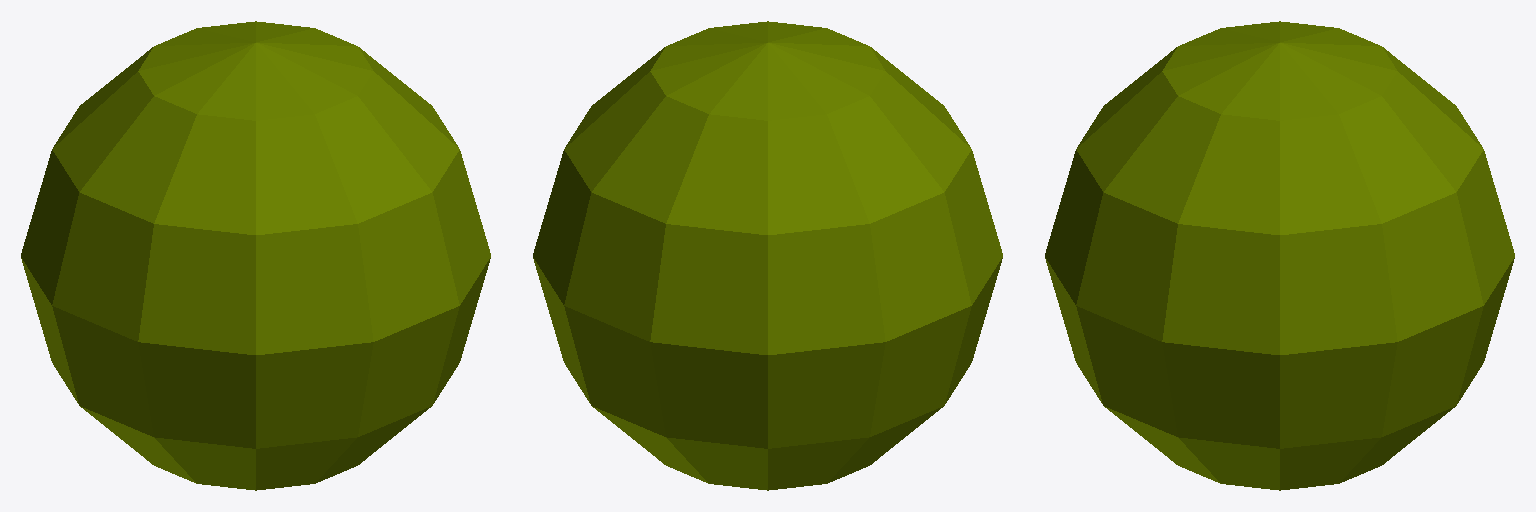
File: BasicSphere.obj
The picture shows the model from 3 angles: view 1: azimuth 30°, elevation 25°; view 2: azimuth 150°, elevation 25°; view 3: azimuth 270°, elevation 25°; orthographic projection.
Visible parts, largest first — view 1: Sphere001; view 2: Sphere001; view 3: Sphere001.
Boxes of the visible parts, x1=… form: Sphere001: x1=21, y1=21, x2=490, y2=490; Sphere001: x1=533, y1=21, x2=1002, y2=490; Sphere001: x1=1045, y1=21, x2=1514, y2=490.
Size of the model in its own units: 54.19 by 54.19 by 54.19.